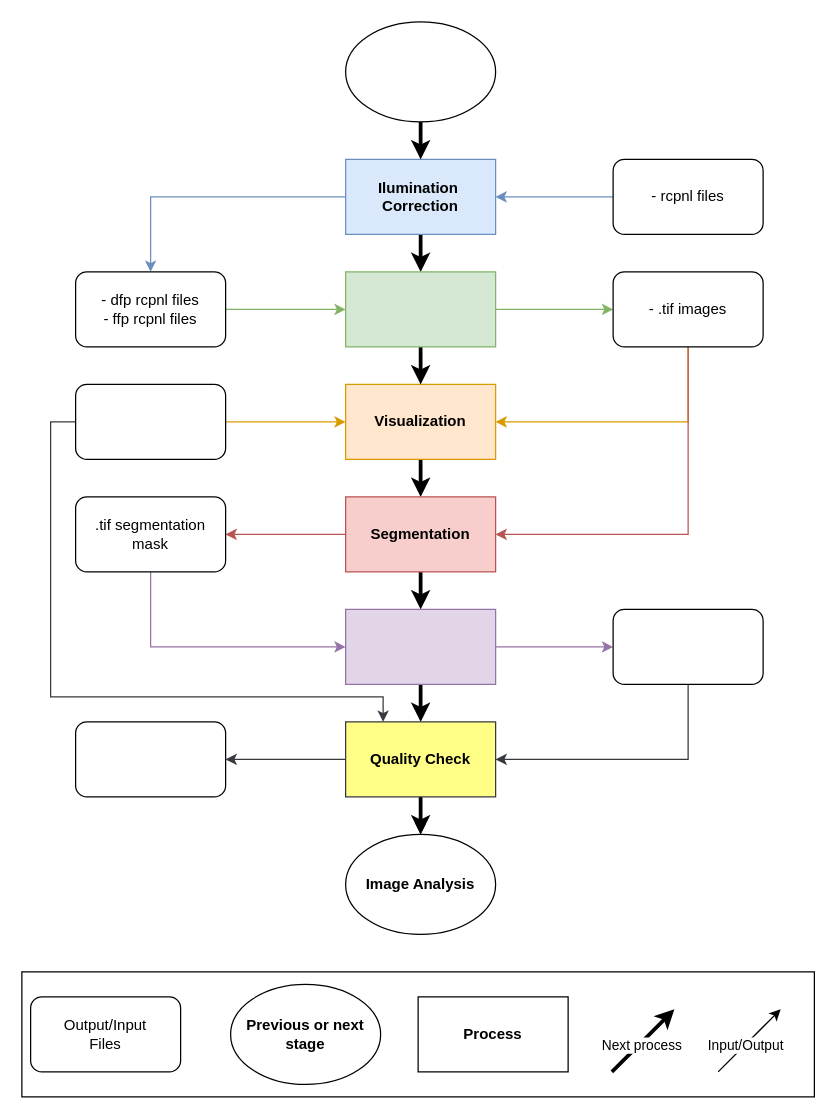
Some shapes in this 836 by 1119 pixel diagram are drawn without their labels. Each missing label, with the centre of its shape:
".csv quantification data" goes at (x=150, y=759).
".csv Raw quantification data" goes at (x=687, y=646).
".txt channels file" goes at (x=150, y=421).
"Quantification" goes at (x=420, y=646).
"Stitching" goes at (x=420, y=309).
"t-cycIF" goes at (x=420, y=71).
